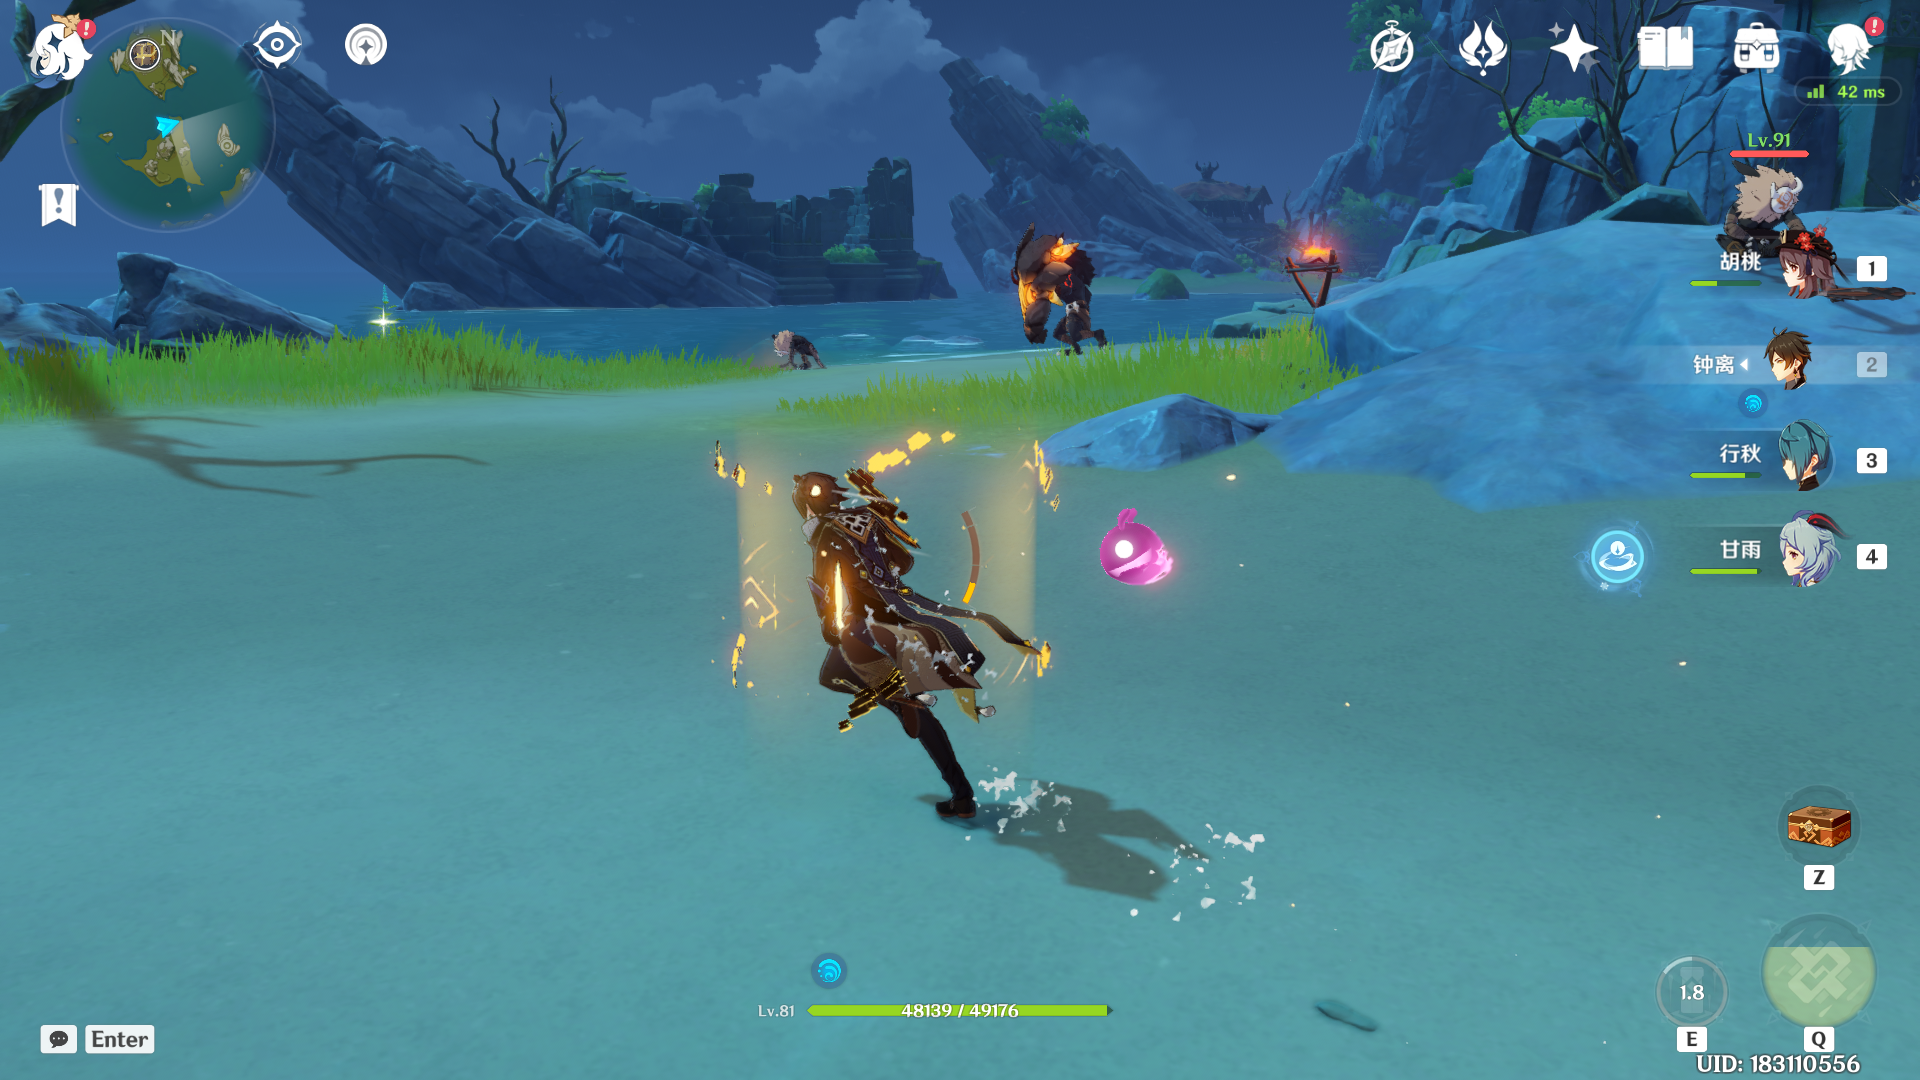bighili: (984, 207, 1158, 396)
character: (717, 434, 1135, 955)
hili: (1687, 131, 1841, 298), (754, 320, 852, 396)
